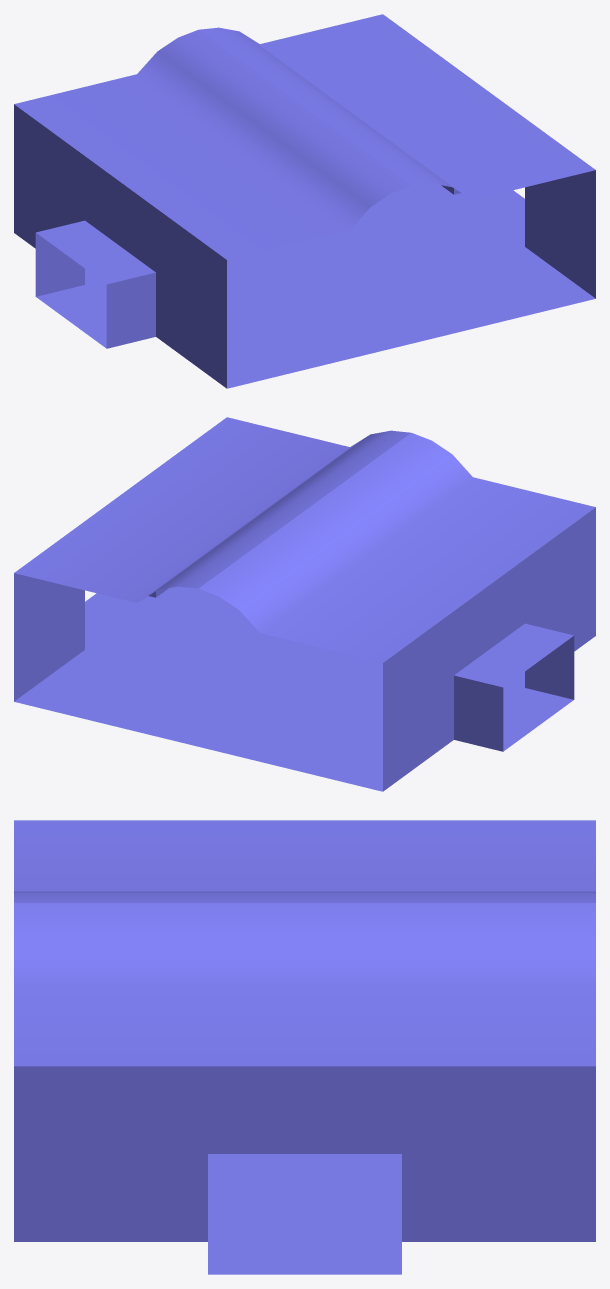
The model's file is 2 way.fbx.
3 renders of one model, top to bottom at view 1: azimuth 30°, elevation 25°; view 2: azimuth 150°, elevation 25°; view 3: azimuth 270°, elevation 25°, orthographic. The views are drawn at different scales.
Parts seen in each view (by area): view 1: pPlane7; view 2: pPlane7; view 3: pPlane7.
Boxes of the visible parts, left/top/right/bottom form: pPlane7: left=14, top=14, right=595, bottom=388; pPlane7: left=14, top=417, right=595, bottom=791; pPlane7: left=14, top=820, right=595, bottom=1274.
Size of the model in its own units: 1900 by 614 by 1500.
